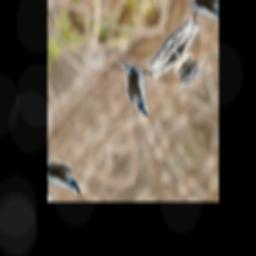Swallow: (103, 37, 167, 125)
